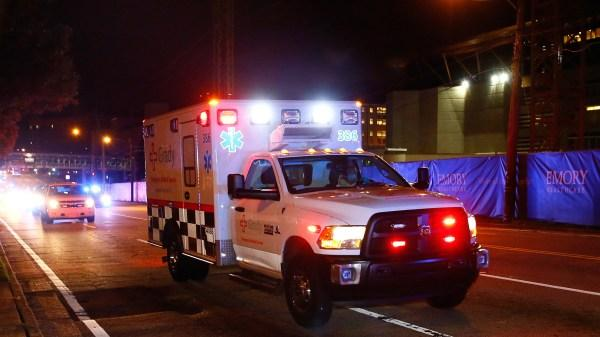ambulance_on: (140, 95, 490, 327)
